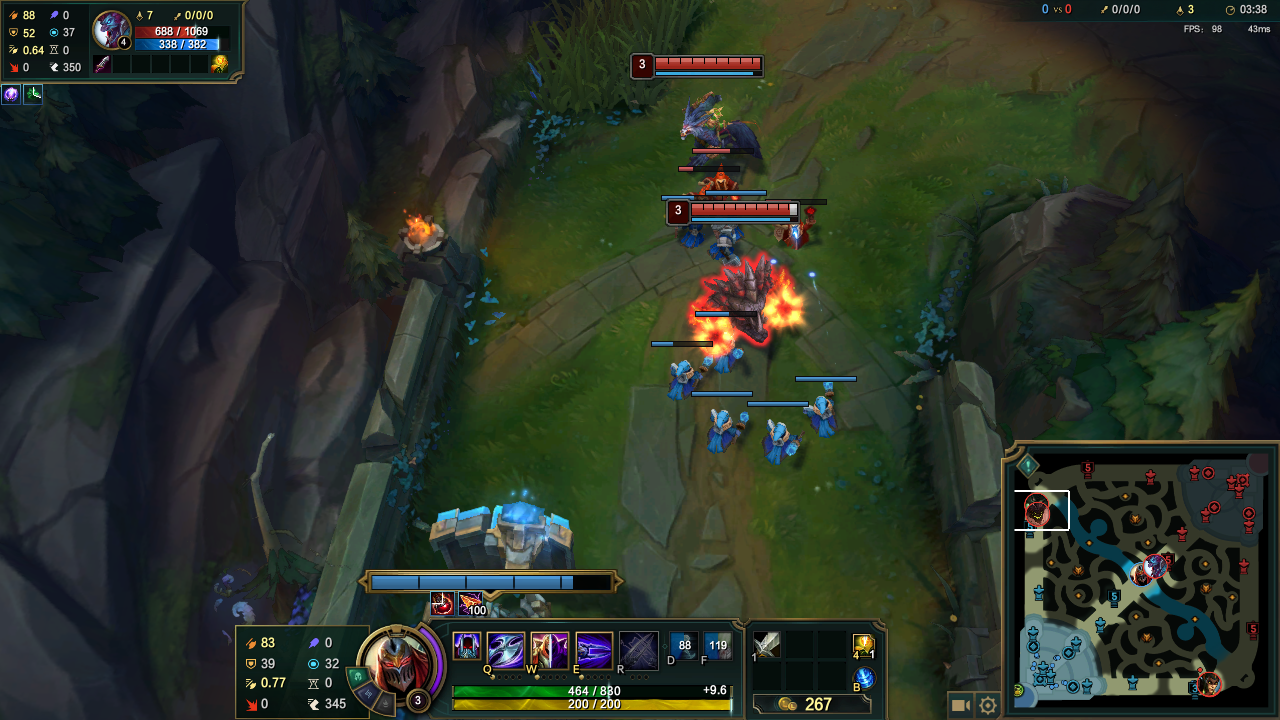DFYX: (653, 55, 763, 71), (689, 202, 800, 214)
